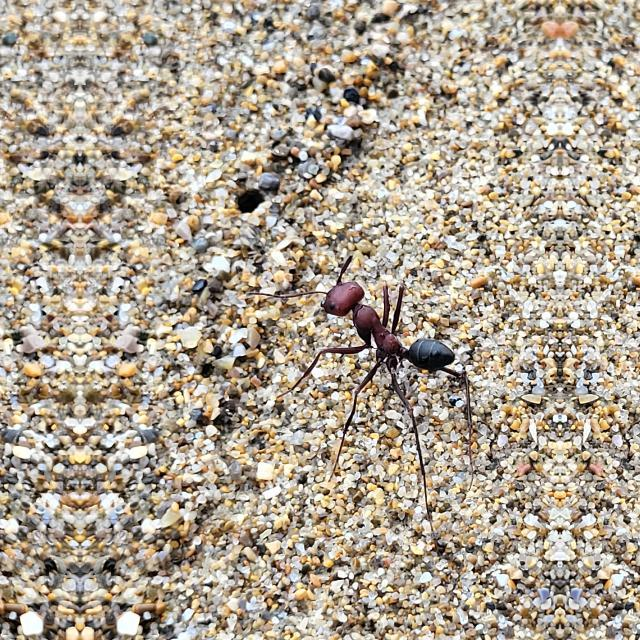Cataglyphis: (300, 256, 472, 416)
